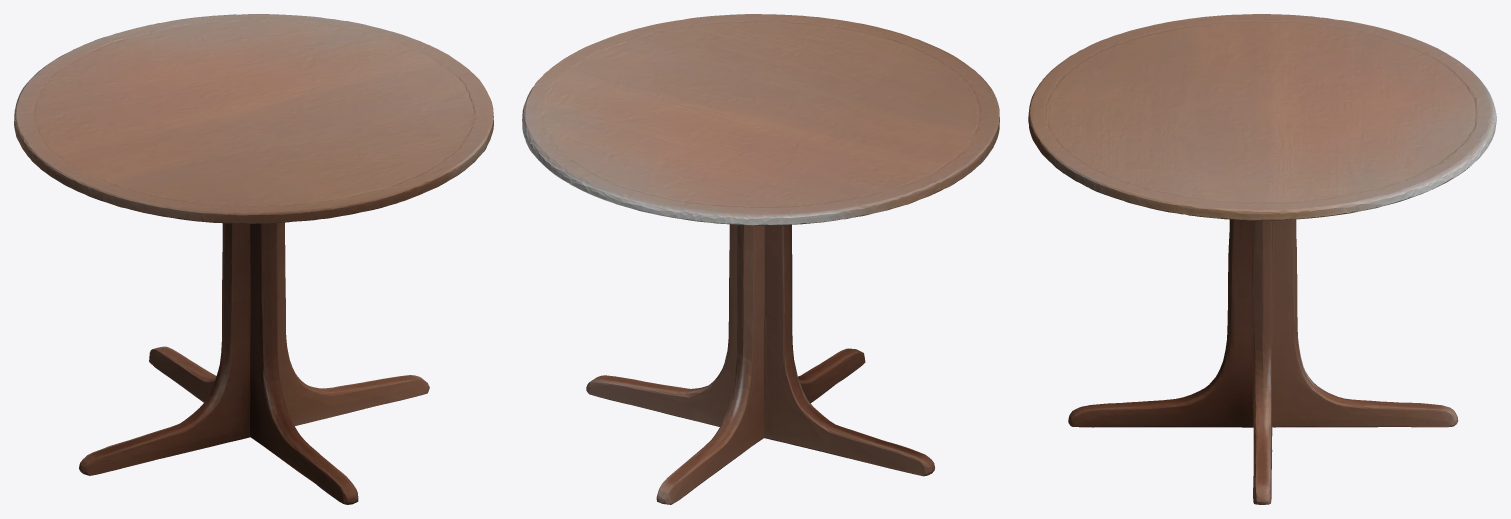
The model's file is ast_db99f8bdf507.glb.
3 renders of one model, left to right at view 1: azimuth 30°, elevation 25°; view 2: azimuth 150°, elevation 25°; view 3: azimuth 270°, elevation 25°, orthographic. The views are drawn at different scales.
Visible parts, largest first — view 1: geometry_0; view 2: geometry_0; view 3: geometry_0.
Boxes of the visible parts, x1,y1,x2,y2 form: geometry_0: (14,14,493,504); geometry_0: (522,14,999,504); geometry_0: (1028,14,1496,504).
Bounding box in the file's own units: 1 × 0.7366 × 0.9999.
1 material, 1 textured.
